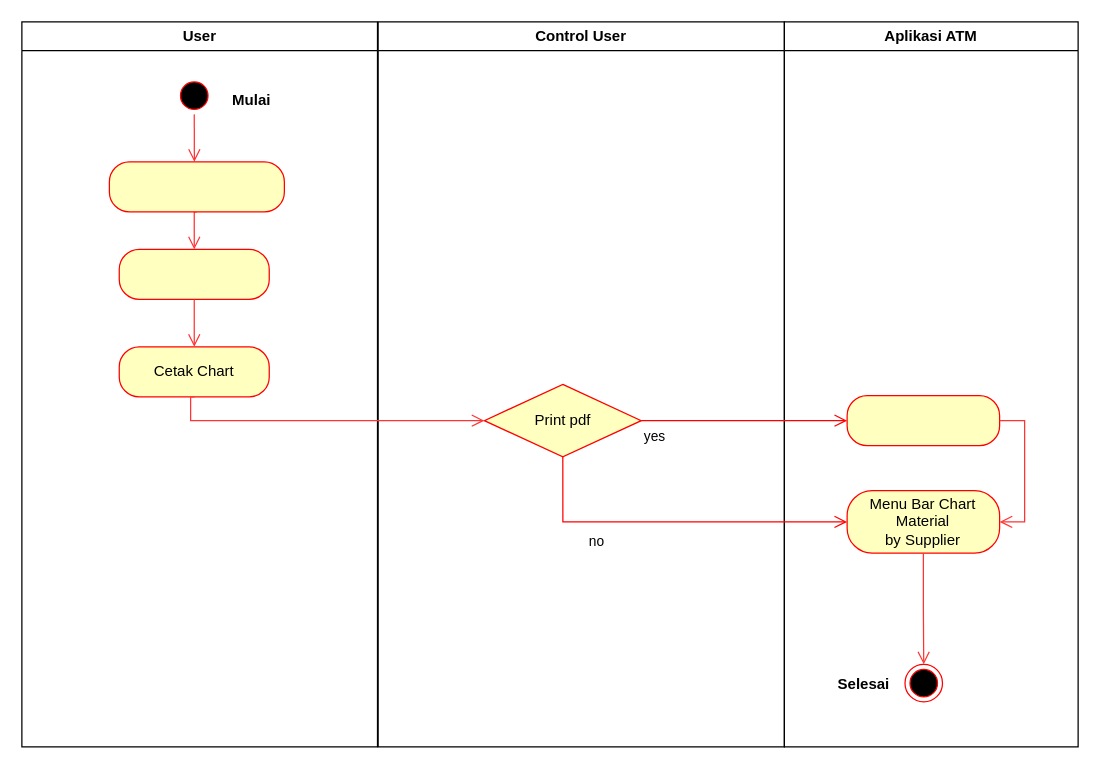
Some shapes in this 1100 by 769 pixel diagram are drawn without their labels. Here are the shapes that lost their labels. From the top down, the centre of each, then its label:
At point (196, 186): "View Bar Chart Material by Supplier".
At point (193, 273): "Pilih Supplier".
At point (923, 420): "Cetak".
